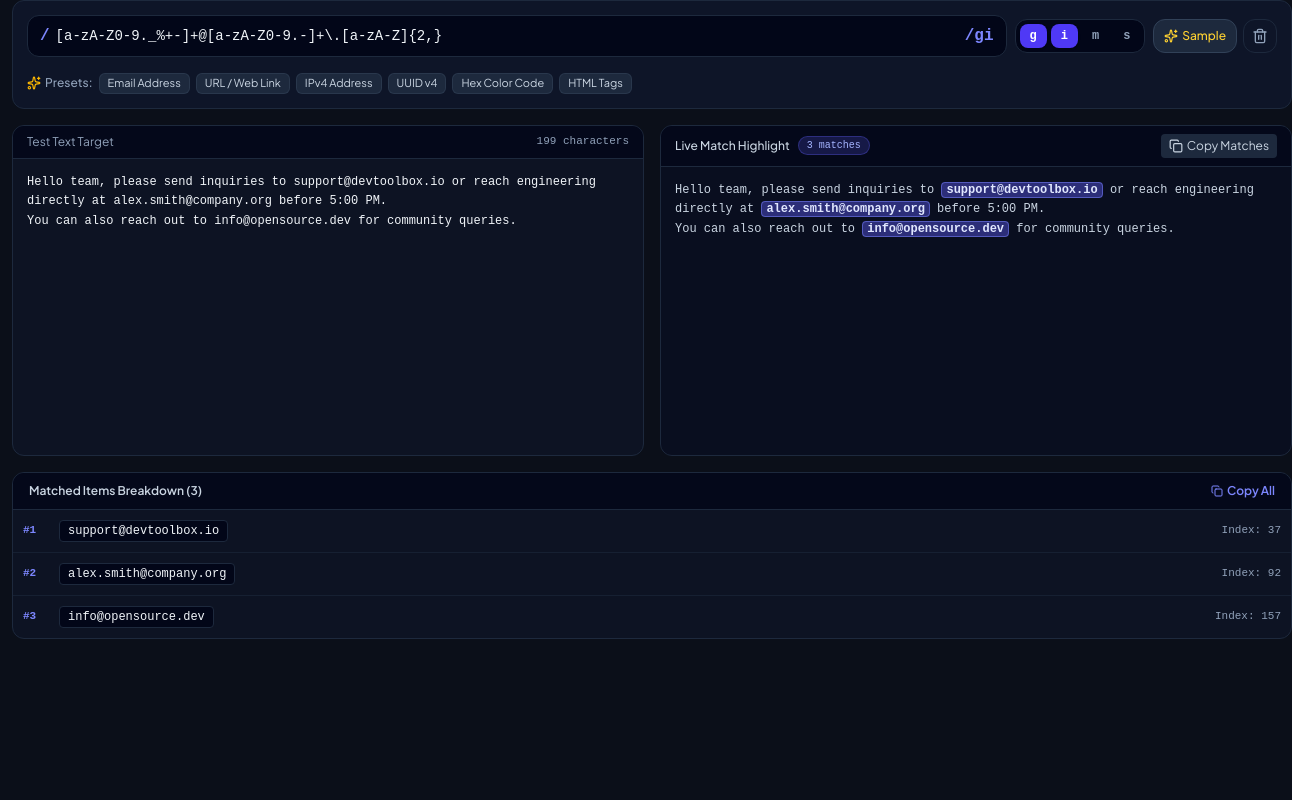
Test: RegexTester Tool › clears pattern and test text when reset is clicked
Click the button named "Clear regex and test text": coordinates (1260, 36) [1243,19,1277,53]
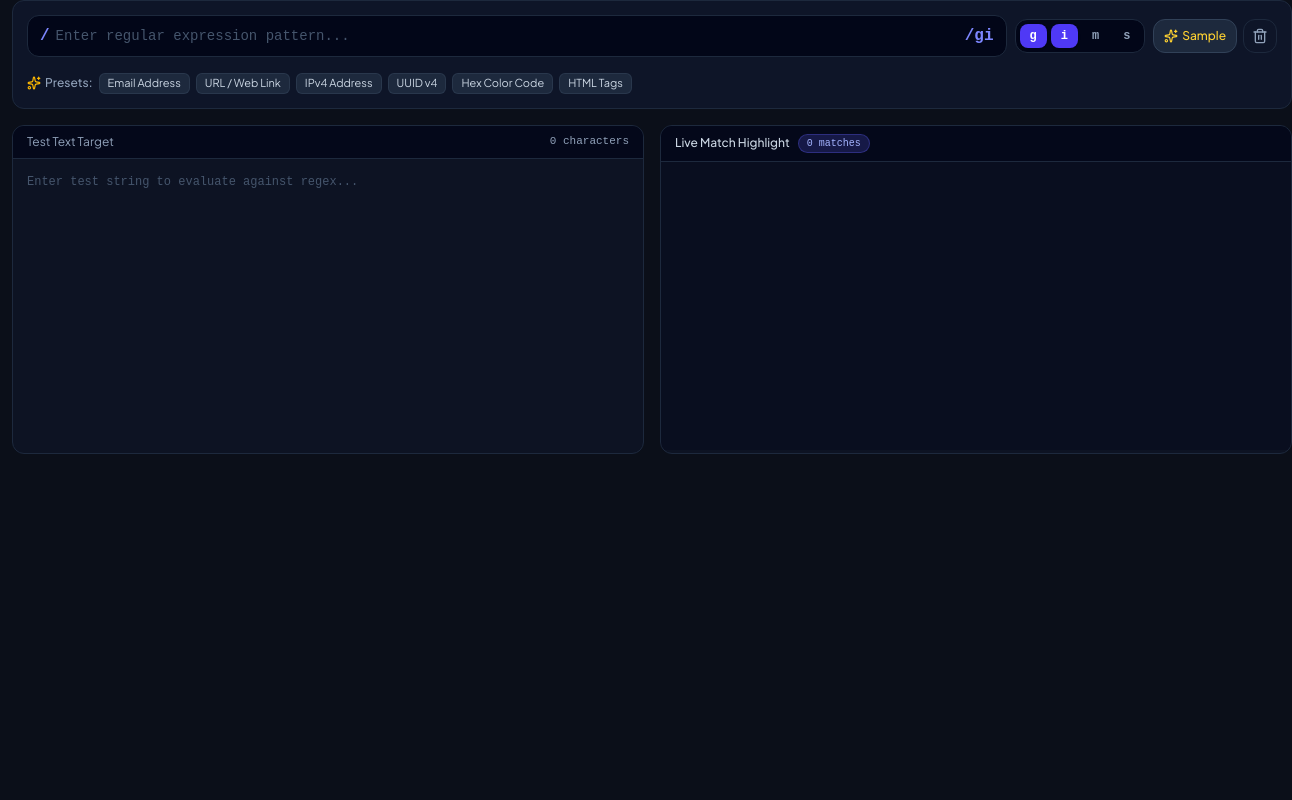
Result: the field labelled "Enter regular expression pattern..." is empty at [56,26,959,46]
Result: the text box with placeholder "Enter test string to evaluate against regex..." is empty at [13,159,643,447]
